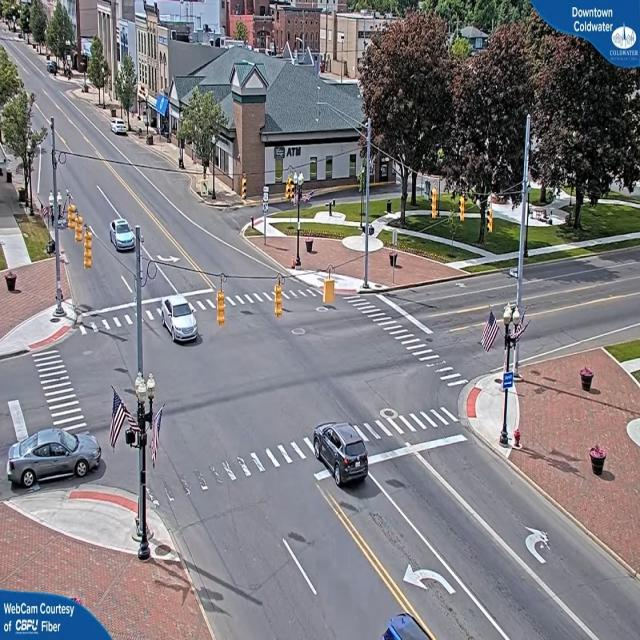car: (6, 426, 102, 491), (312, 425, 369, 487), (157, 297, 201, 343), (110, 219, 137, 252), (111, 120, 129, 136)
